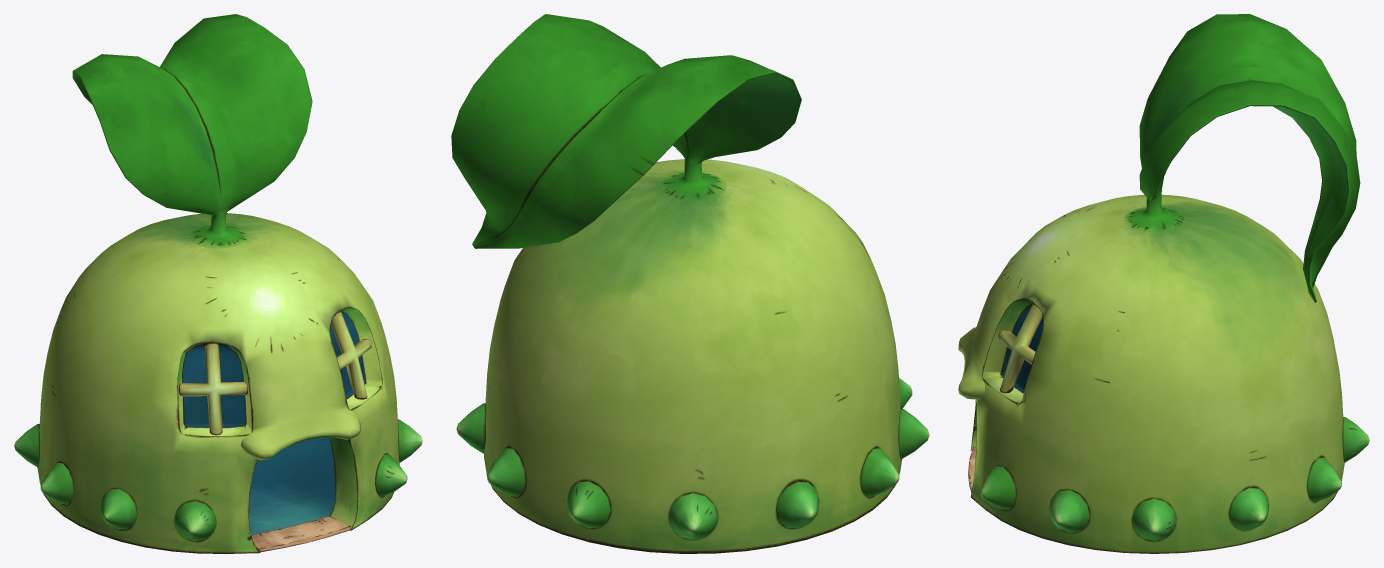
File: chikorita_house.glb
The picture shows the model from 3 angles, left to right: view 1: azimuth 30°, elevation 25°; view 2: azimuth 150°, elevation 25°; view 3: azimuth 270°, elevation 25°; orthographic projection. The views are drawn at different scales.
Parts seen in each view (by area): view 1: Object_2; view 2: Object_2; view 3: Object_2.
Part boxes in pixels (<box>): Object_2: <box>14,14,422,553</box>; Object_2: <box>451,14,929,553</box>; Object_2: <box>958,14,1369,553</box>.
Size of the model in its own units: 4.27 by 4.57 by 4.07.
Materials: 1 (1 with a texture image).
